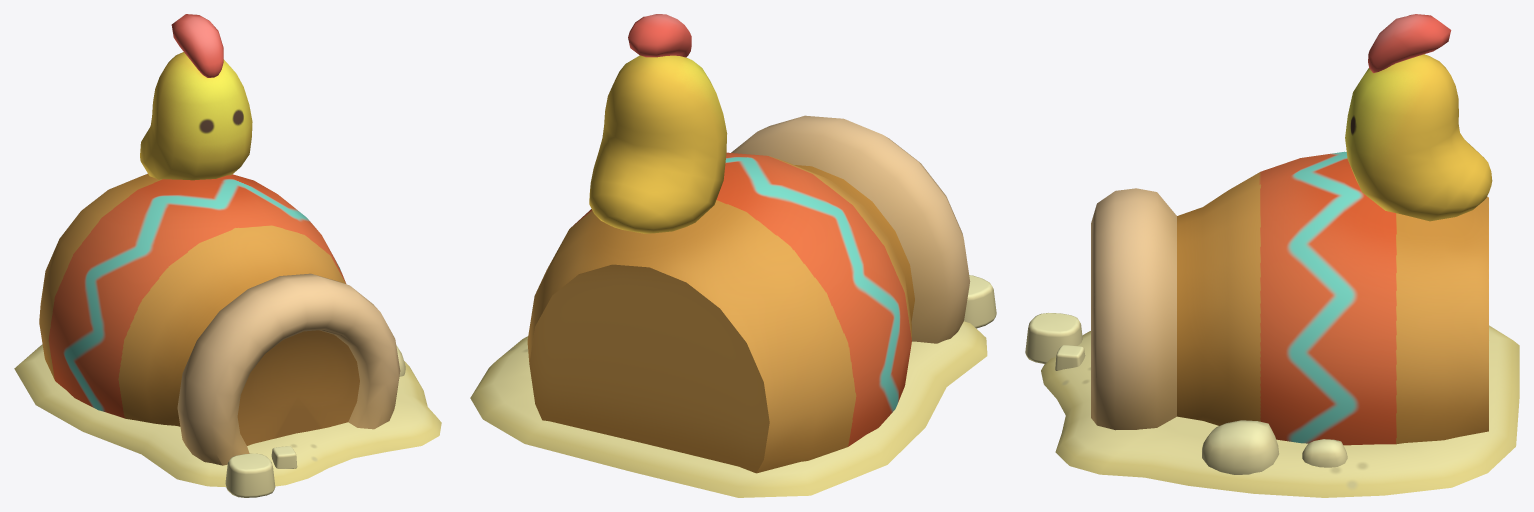
Rendered from JarChick.fbx.
3 views of the same model, side by side, from view 1: azimuth 30°, elevation 25°; view 2: azimuth 150°, elevation 25°; view 3: azimuth 270°, elevation 25° (orthographic). The views are drawn at different scales.
Parts seen in each view (by area): view 1: polySurface41, polySurface39; view 2: polySurface41, polySurface39; view 3: polySurface41, polySurface39.
Boxes of the visible parts, x1,y1,x2,y2 form: polySurface41: (14,173,441,497); polySurface39: (140,14,252,180); polySurface41: (470,115,996,497); polySurface39: (589,14,727,233); polySurface41: (1025,151,1519,497); polySurface39: (1345,14,1492,221).
Size of the model in its own units: 196 by 195 by 218.
